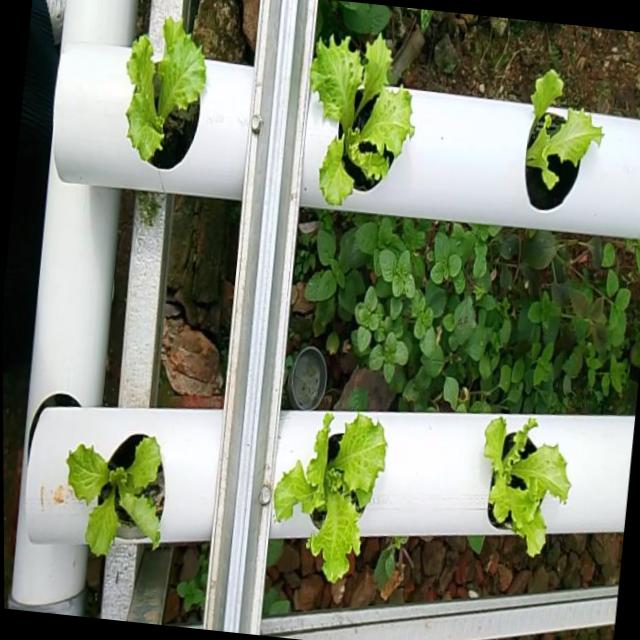Baby: (273, 412, 387, 583), (309, 24, 413, 206), (66, 433, 165, 557), (126, 18, 205, 170), (484, 418, 570, 557), (525, 71, 602, 212)
